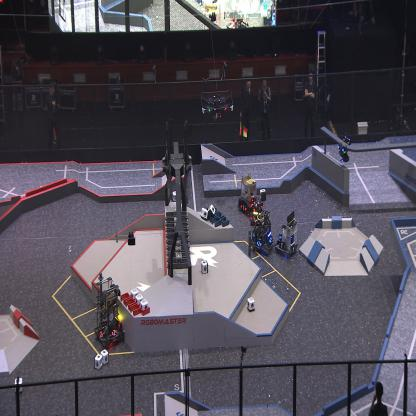car: (93, 277, 126, 349), (274, 211, 299, 259), (251, 208, 274, 254), (237, 173, 258, 214), (249, 201, 265, 224)
